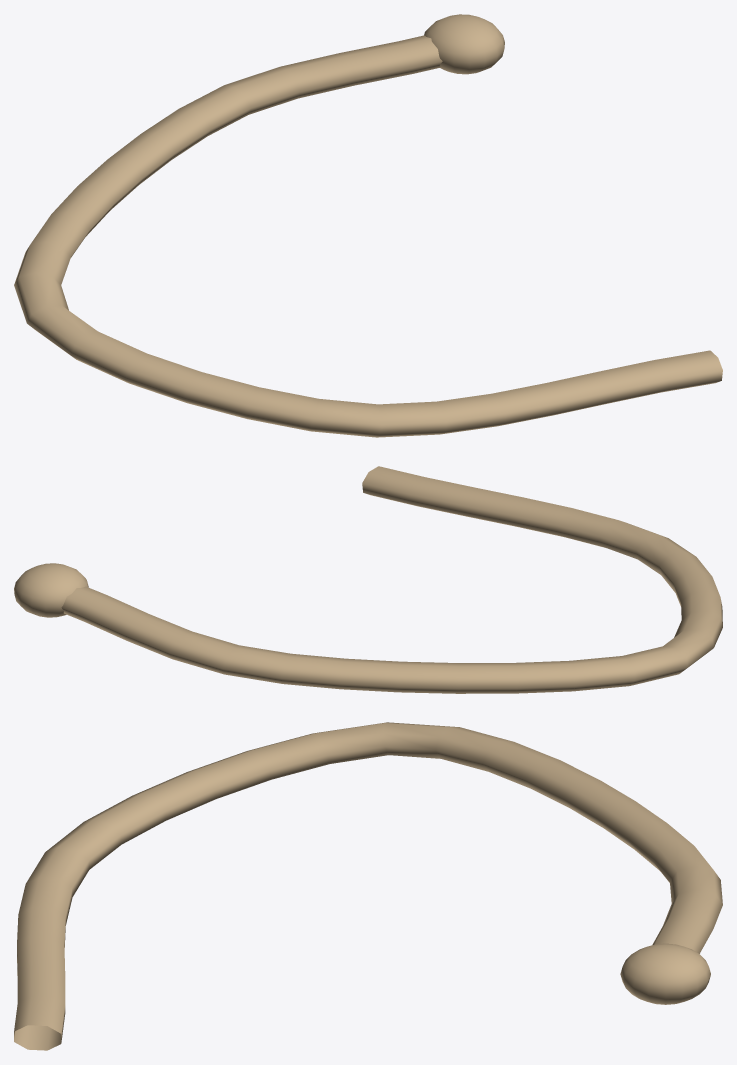
Rendered from right_rib_4.glb.
The picture shows the model from 3 angles, top to bottom: view 1: azimuth 30°, elevation 25°; view 2: azimuth 150°, elevation 25°; view 3: azimuth 270°, elevation 25°; orthographic projection. The views are drawn at different scales.
Visible parts, largest first — view 1: right_rib_4:costal-body, right_rib_4:head; view 2: right_rib_4:costal-body, right_rib_4:head; view 3: right_rib_4:costal-body, right_rib_4:head.
Boxes of the visible parts, x1,y1,x2,y2 form: right_rib_4:costal-body: (14,35,722,437); right_rib_4:head: (424,14,504,74); right_rib_4:costal-body: (61,466,722,693); right_rib_4:head: (14,563,88,617); right_rib_4:costal-body: (14,722,722,1050); right_rib_4:head: (620,943,710,1004).
Bounding box in the file's own units: 0.8826 × 0.1728 × 0.864.
